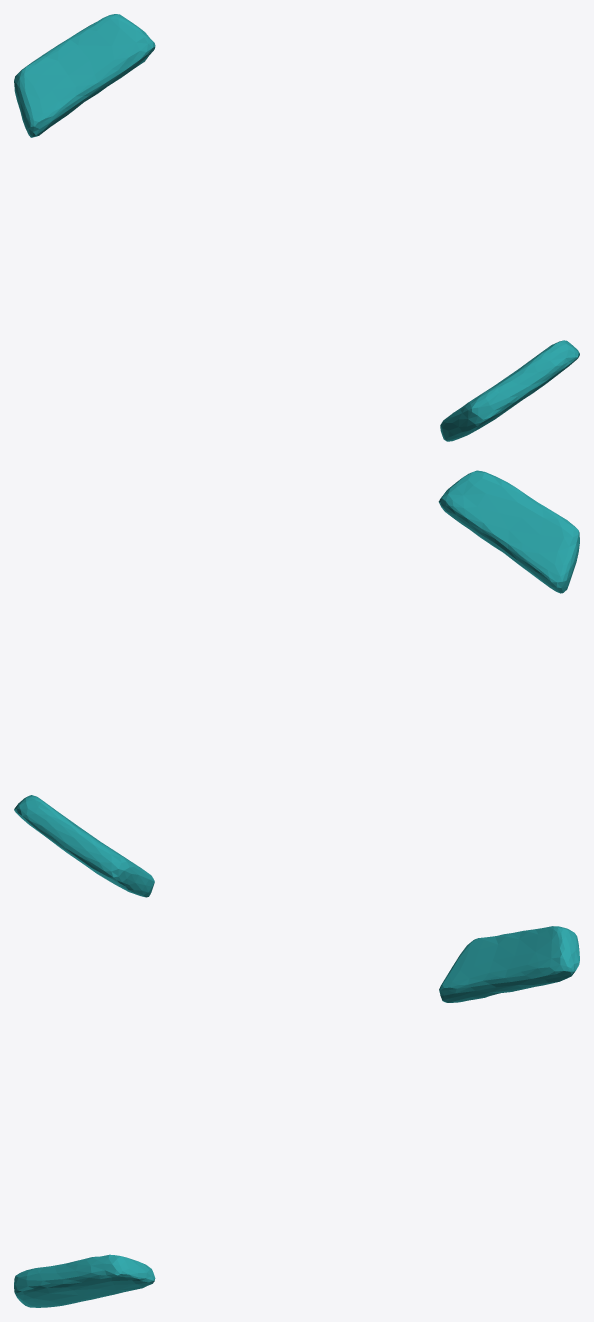
The picture shows the model from 3 angles, top to bottom: view 1: azimuth 30°, elevation 25°; view 2: azimuth 150°, elevation 25°; view 3: azimuth 330°, elevation 25°; orthographic projection.
Parts seen in each view (by area): view 1: 613.obj; view 2: 613.obj; view 3: 613.obj.
Part boxes in pixels (x1,y1,x2,y2): 613.obj: (14,14,579,441); 613.obj: (14,470,579,897); 613.obj: (14,926,579,1307).
Size of the model in its own units: 1216 by 778 by 7527.
